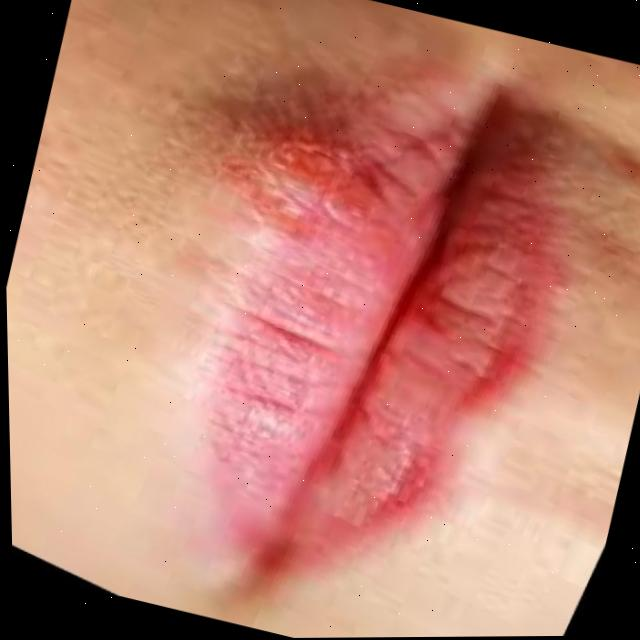Eczema: (224, 79, 465, 264)
